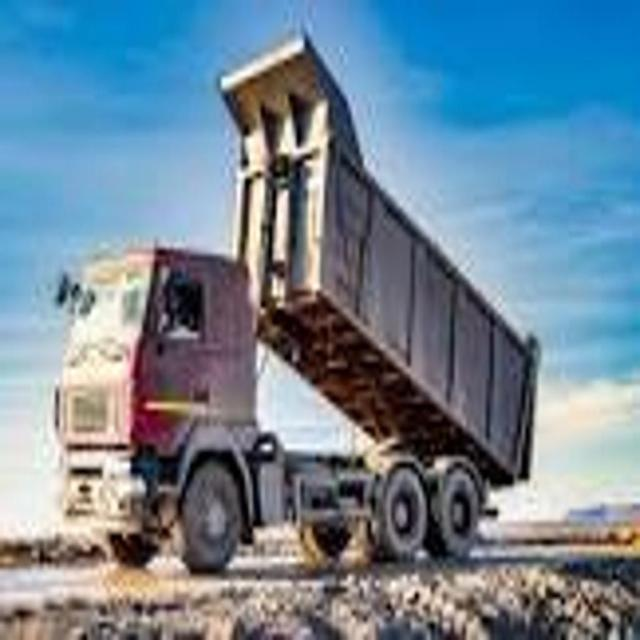dump_truck: (52, 43, 532, 560)
